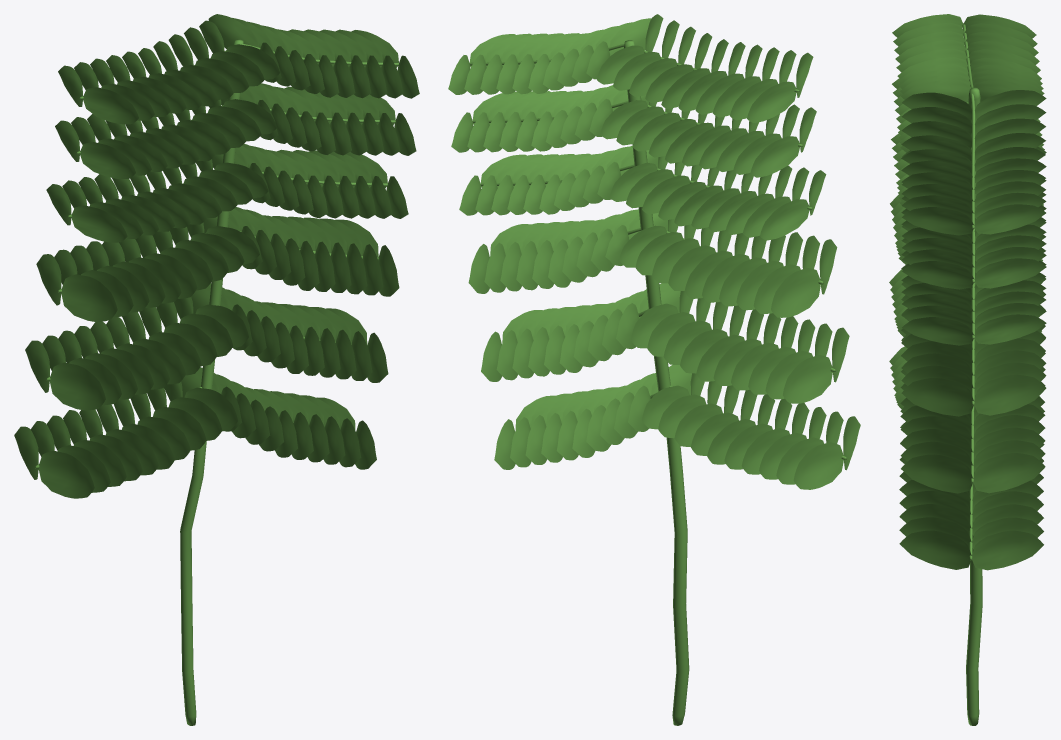
File: lady_fern_variant2.fbx
3 views of the same model, side by side, from view 1: azimuth 30°, elevation 25°; view 2: azimuth 150°, elevation 25°; view 3: azimuth 270°, elevation 25° (orthographic). The views are drawn at different scales.
Visible parts, largest first — view 1: Plane.001, Plane.004, Curve.002; view 2: Plane.001, Plane.004, Curve.002; view 3: Plane.004, Plane.001, Curve.002.
Boxes of the visible parts, x1,y1,x2,y2 form: Plane.001: [14, 20, 279, 498]; Plane.004: [181, 14, 419, 469]; Curve.002: [180, 39, 243, 725]; Plane.001: [597, 14, 860, 489]; Plane.004: [448, 18, 691, 469]; Curve.002: [624, 40, 689, 725]; Plane.004: [899, 90, 1046, 570]; Plane.001: [889, 14, 1044, 409]; Curve.002: [966, 87, 982, 725].
Bounding box in the file's own units: 27.52 × 48.04 × 10.31.
